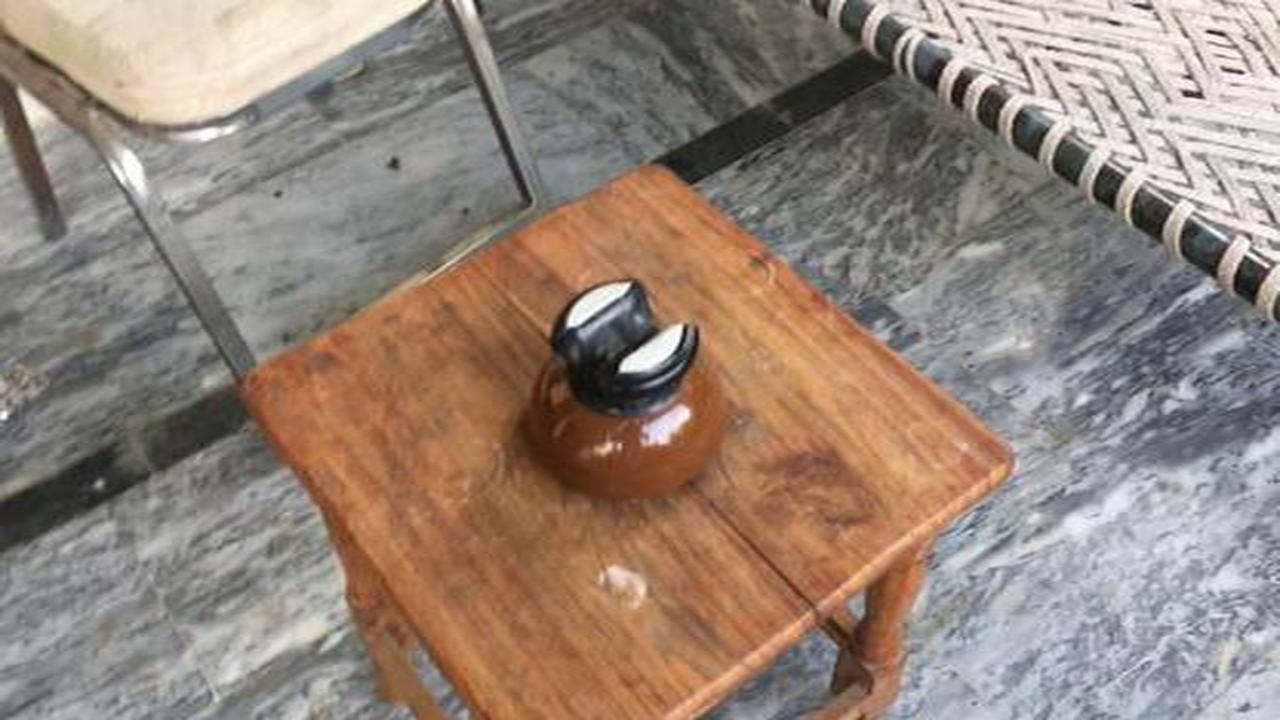insulator_pin: (487, 264, 757, 518)
